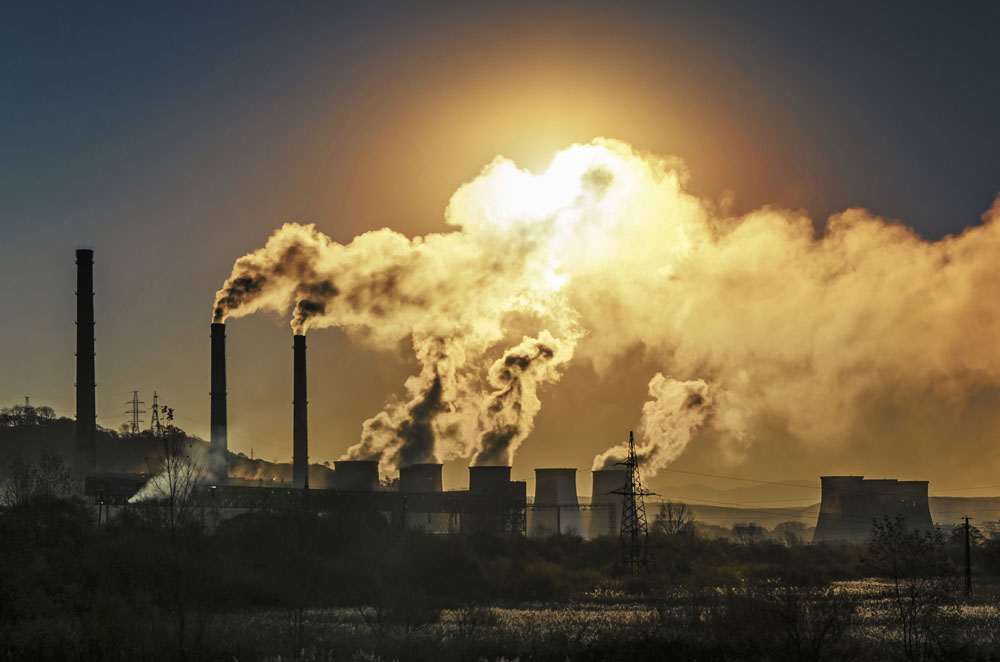dust: (281, 222, 440, 353), (459, 338, 565, 482), (586, 371, 708, 480), (202, 229, 298, 345), (391, 377, 470, 478), (325, 397, 403, 471)
